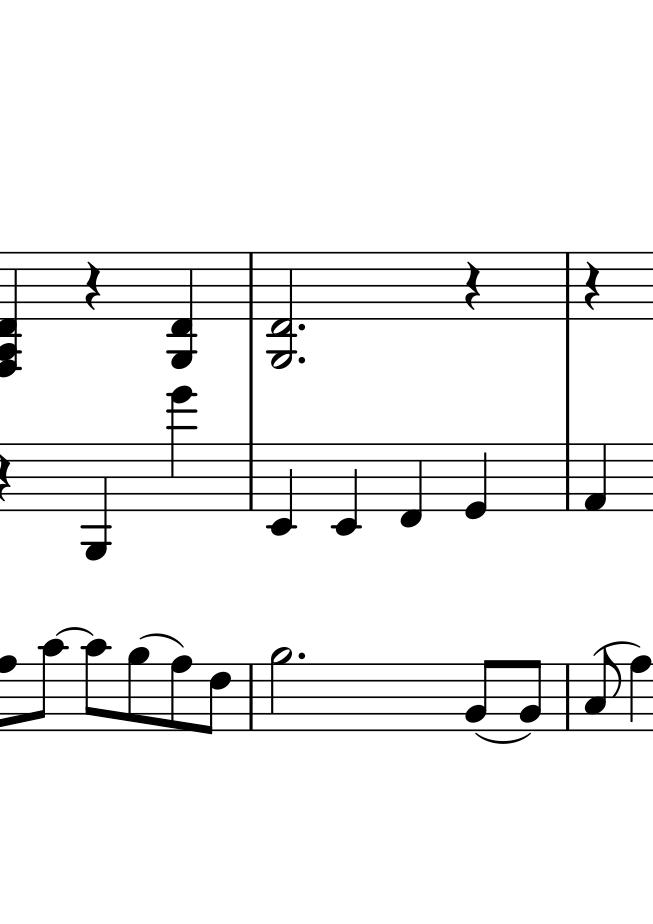2_-5_-1: (267, 250, 297, 369)
2_9: (269, 646, 292, 734)
4_-1: (399, 441, 425, 528)
4_-2: (268, 440, 296, 537), (333, 441, 360, 537)
4_-5: (85, 442, 112, 563)
4_-5_-1: (165, 251, 198, 369)
4_0: (465, 442, 490, 520), (584, 441, 610, 512)
4_14: (168, 384, 194, 514)
4_8: (628, 653, 653, 737)
4_th: (1, 250, 23, 381)
8_10: (27, 637, 62, 733), (82, 639, 110, 734)
8_2: (465, 657, 498, 733), (520, 659, 546, 733)
8_3: (585, 648, 623, 733)
8_6: (202, 662, 234, 735)
8_8: (168, 655, 193, 733)
8_9: (124, 645, 151, 735)
Rests4: (581, 259, 604, 309), (463, 260, 484, 308), (84, 259, 103, 310)
Single_barline: (245, 250, 261, 322), (243, 661, 259, 732), (560, 665, 576, 732), (244, 440, 259, 510), (560, 250, 574, 323), (561, 441, 574, 512)
Slur: (137, 632, 187, 650), (473, 732, 534, 743), (594, 641, 645, 654), (55, 625, 93, 638)
dot: (292, 647, 309, 665), (295, 318, 311, 334), (295, 351, 309, 368), (294, 649, 306, 661), (296, 354, 308, 365), (296, 321, 305, 330)
